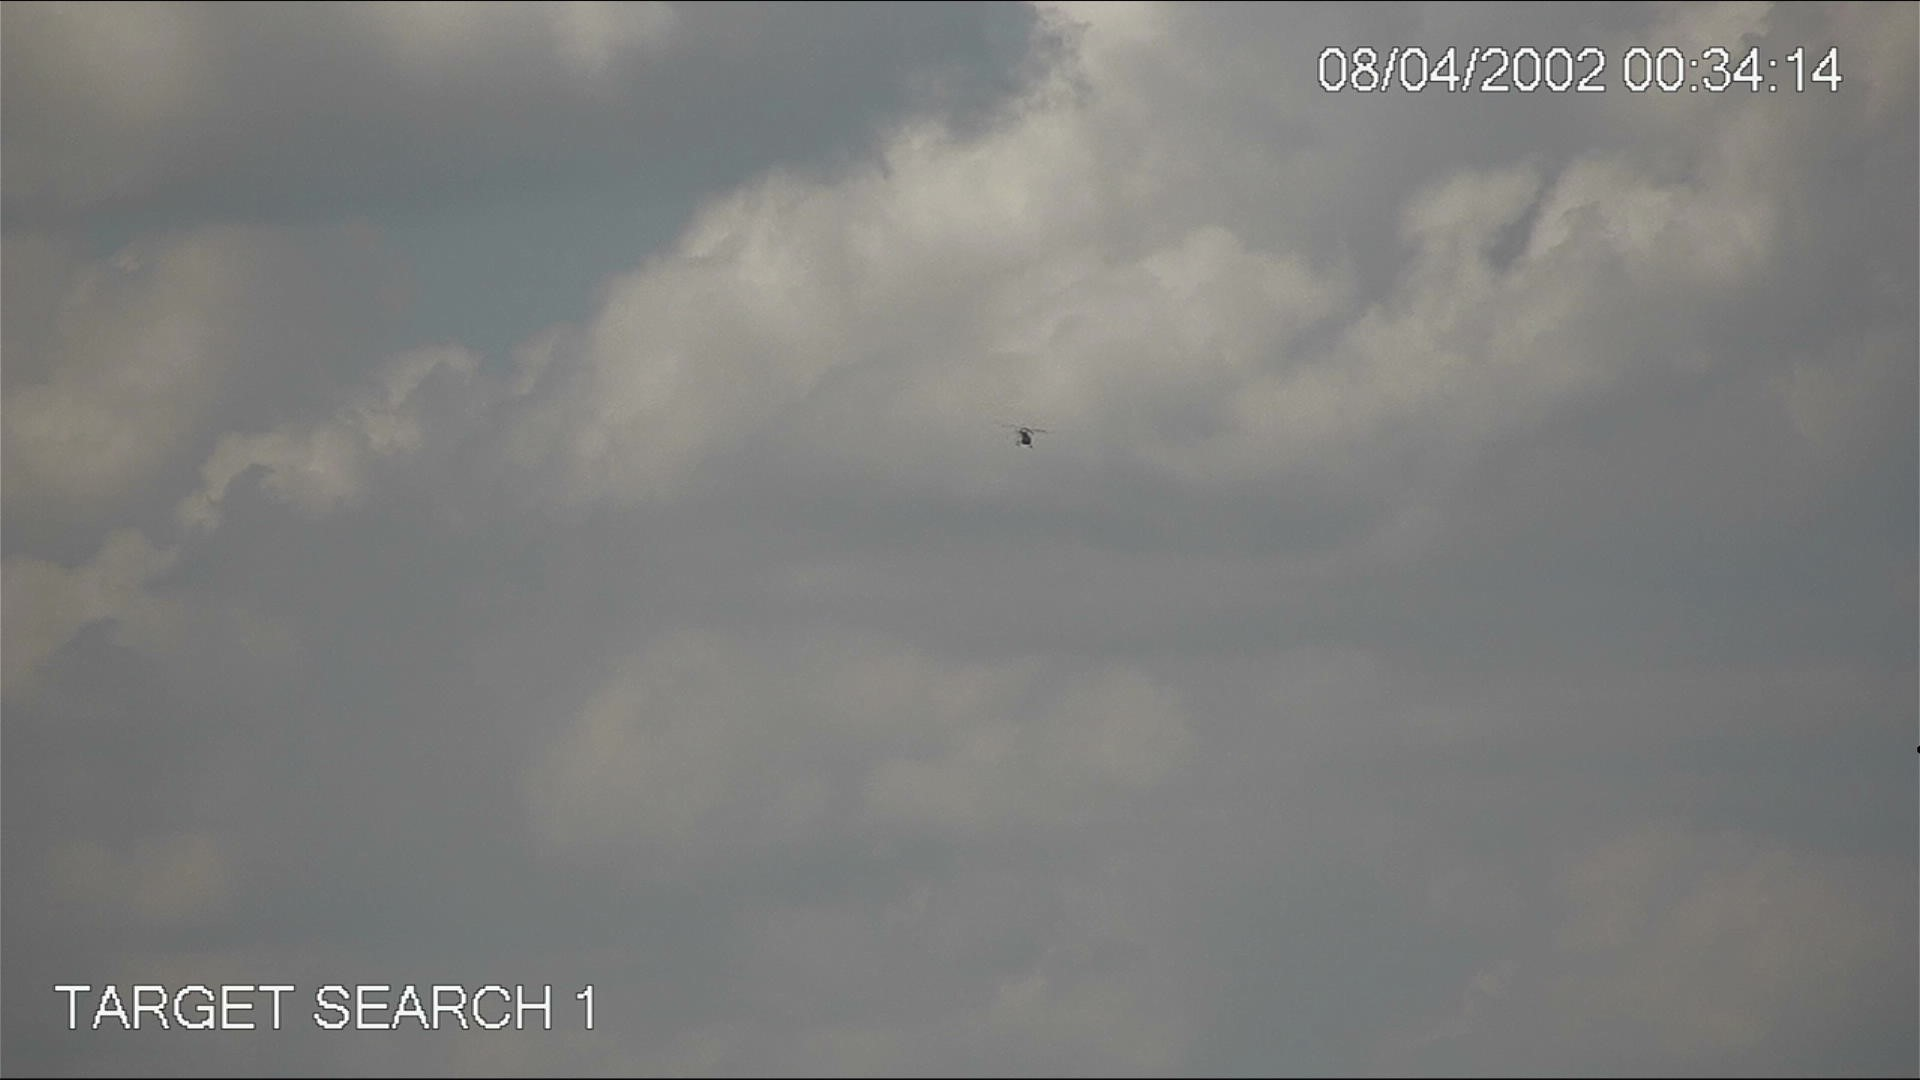SU_30: (1007, 425, 1055, 454)
